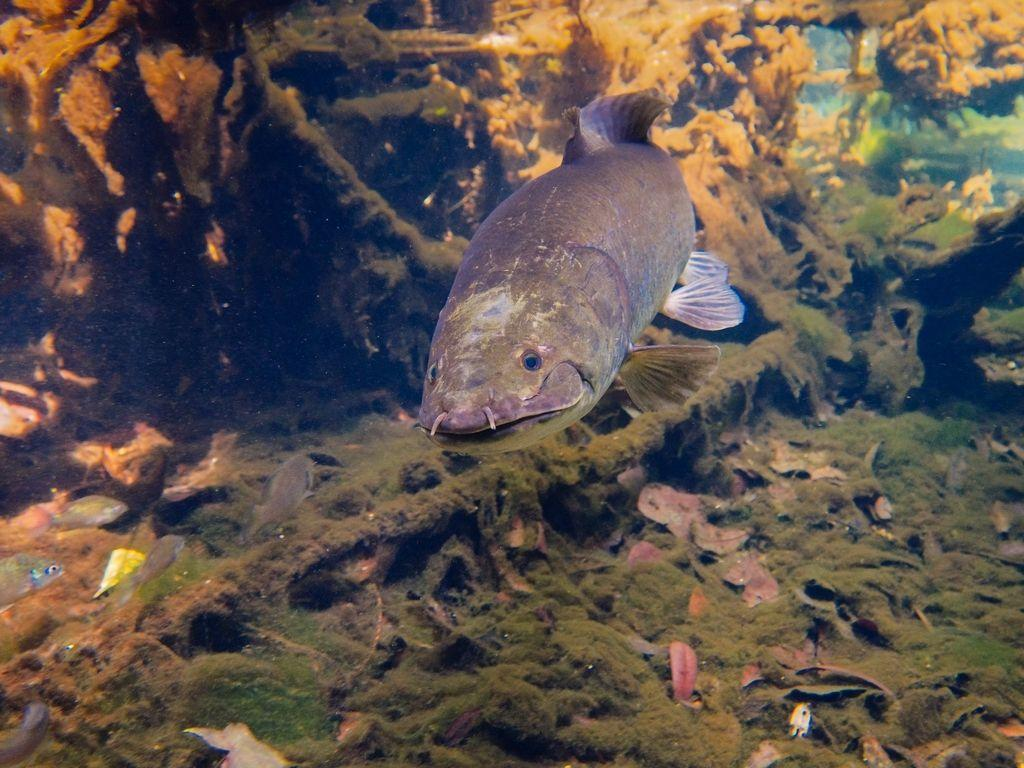Mudfish: (407, 76, 740, 470)
